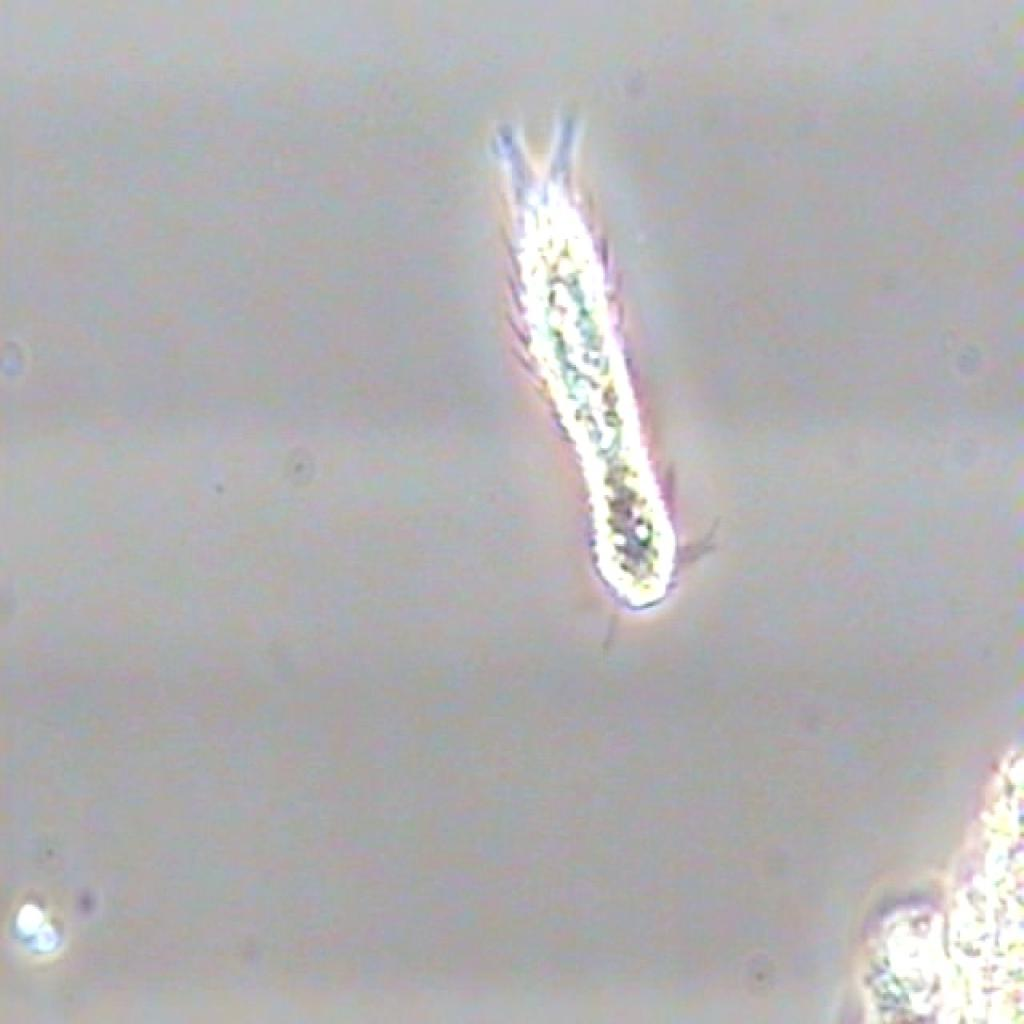Chaetonotus: (479, 94, 726, 646)
